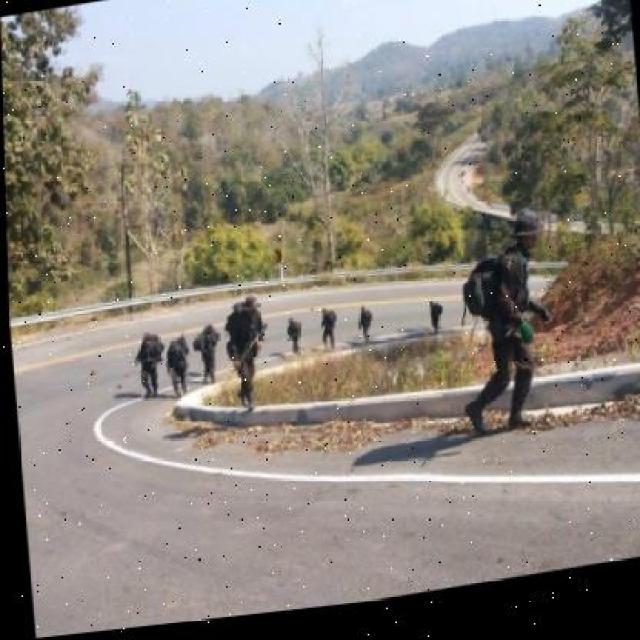MIL_Pax: (461, 215, 553, 447), (219, 297, 273, 421), (122, 336, 166, 406), (190, 322, 218, 393), (163, 334, 189, 404), (278, 317, 304, 368), (351, 312, 377, 359), (314, 312, 341, 356), (418, 308, 448, 342)
